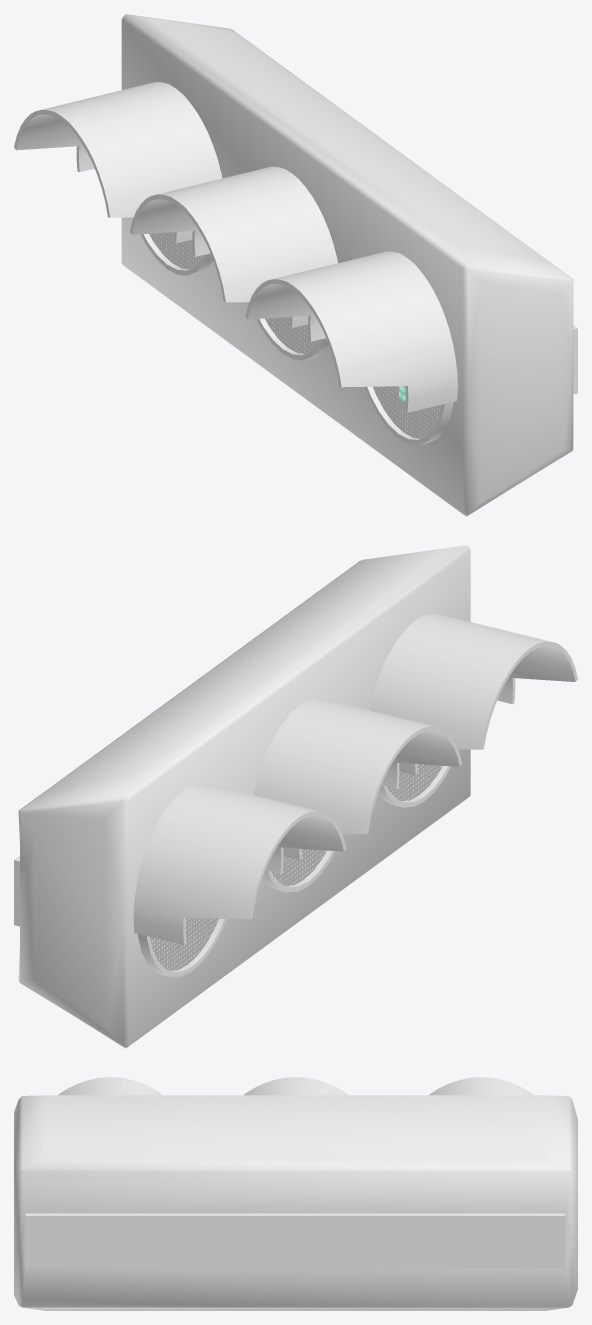
Rendered from 横向直行灯_GreenLight.glb.
3 renders of one model, top to bottom at view 1: azimuth 30°, elevation 25°; view 2: azimuth 150°, elevation 25°; view 3: azimuth 270°, elevation 25°, orthographic. The views are drawn at different scales.
Visible parts, largest first — view 1: 横向直行灯_GreenLight; view 2: 横向直行灯_GreenLight; view 3: 横向直行灯_GreenLight.
Part boxes in pixels (bbox=[...]): 横向直行灯_GreenLight: bbox=[14, 14, 577, 516]; 横向直行灯_GreenLight: bbox=[14, 545, 577, 1048]; 横向直行灯_GreenLight: bbox=[14, 1077, 577, 1310].
Size of the model in its own units: 0.6 by 0.65 by 1.58.
3 materials, 2 textured.
